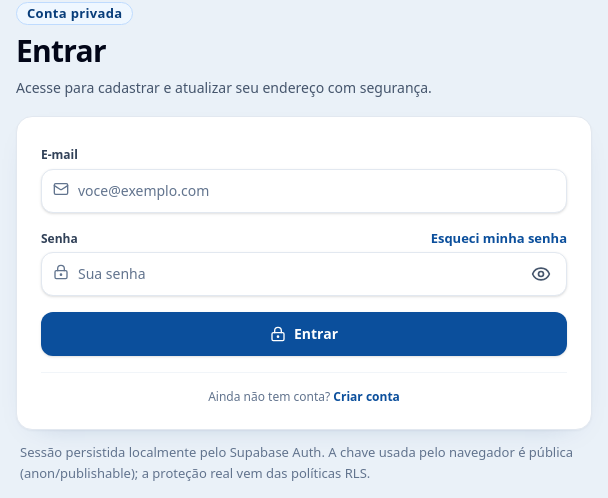
Test: LoginPage › permite conferir e ocultar a senha sem perder o valor
Step 1. Type "senha-de-teste" into the password field labelled "Senha" → (304, 274), box [41,252,567,296]
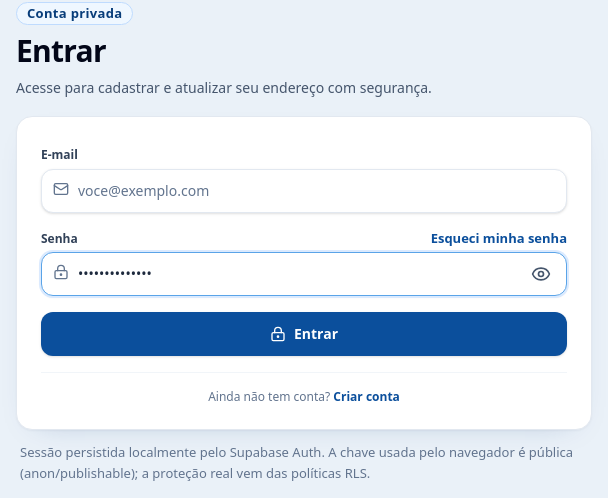
Step 2. Click the button named "Mostrar senha" → (541, 274), box [519,252,563,296]
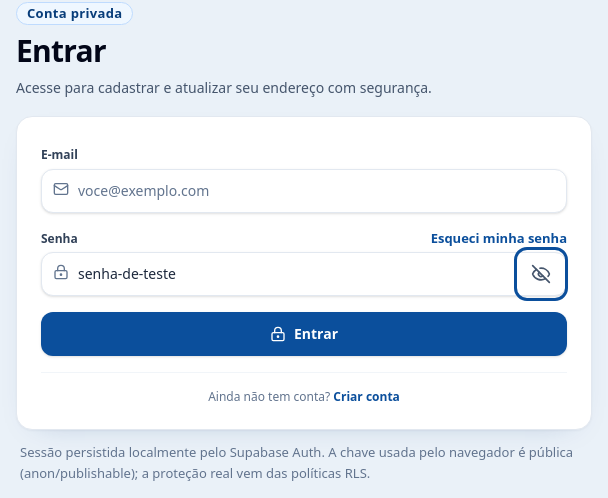
Result: the field labelled "Senha" shows its text at [41,252,567,296]
Step 3. Click the button named "Ocultar senha" → (541, 274), box [519,252,563,296]
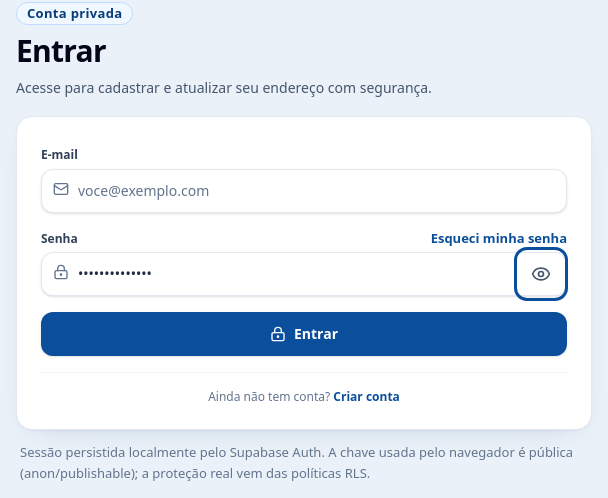
Result: the password field labelled "Senha" hides its text at [41,252,567,296]
